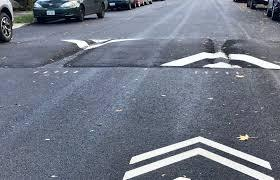Bump: (94, 38, 280, 66), (1, 35, 88, 66)
